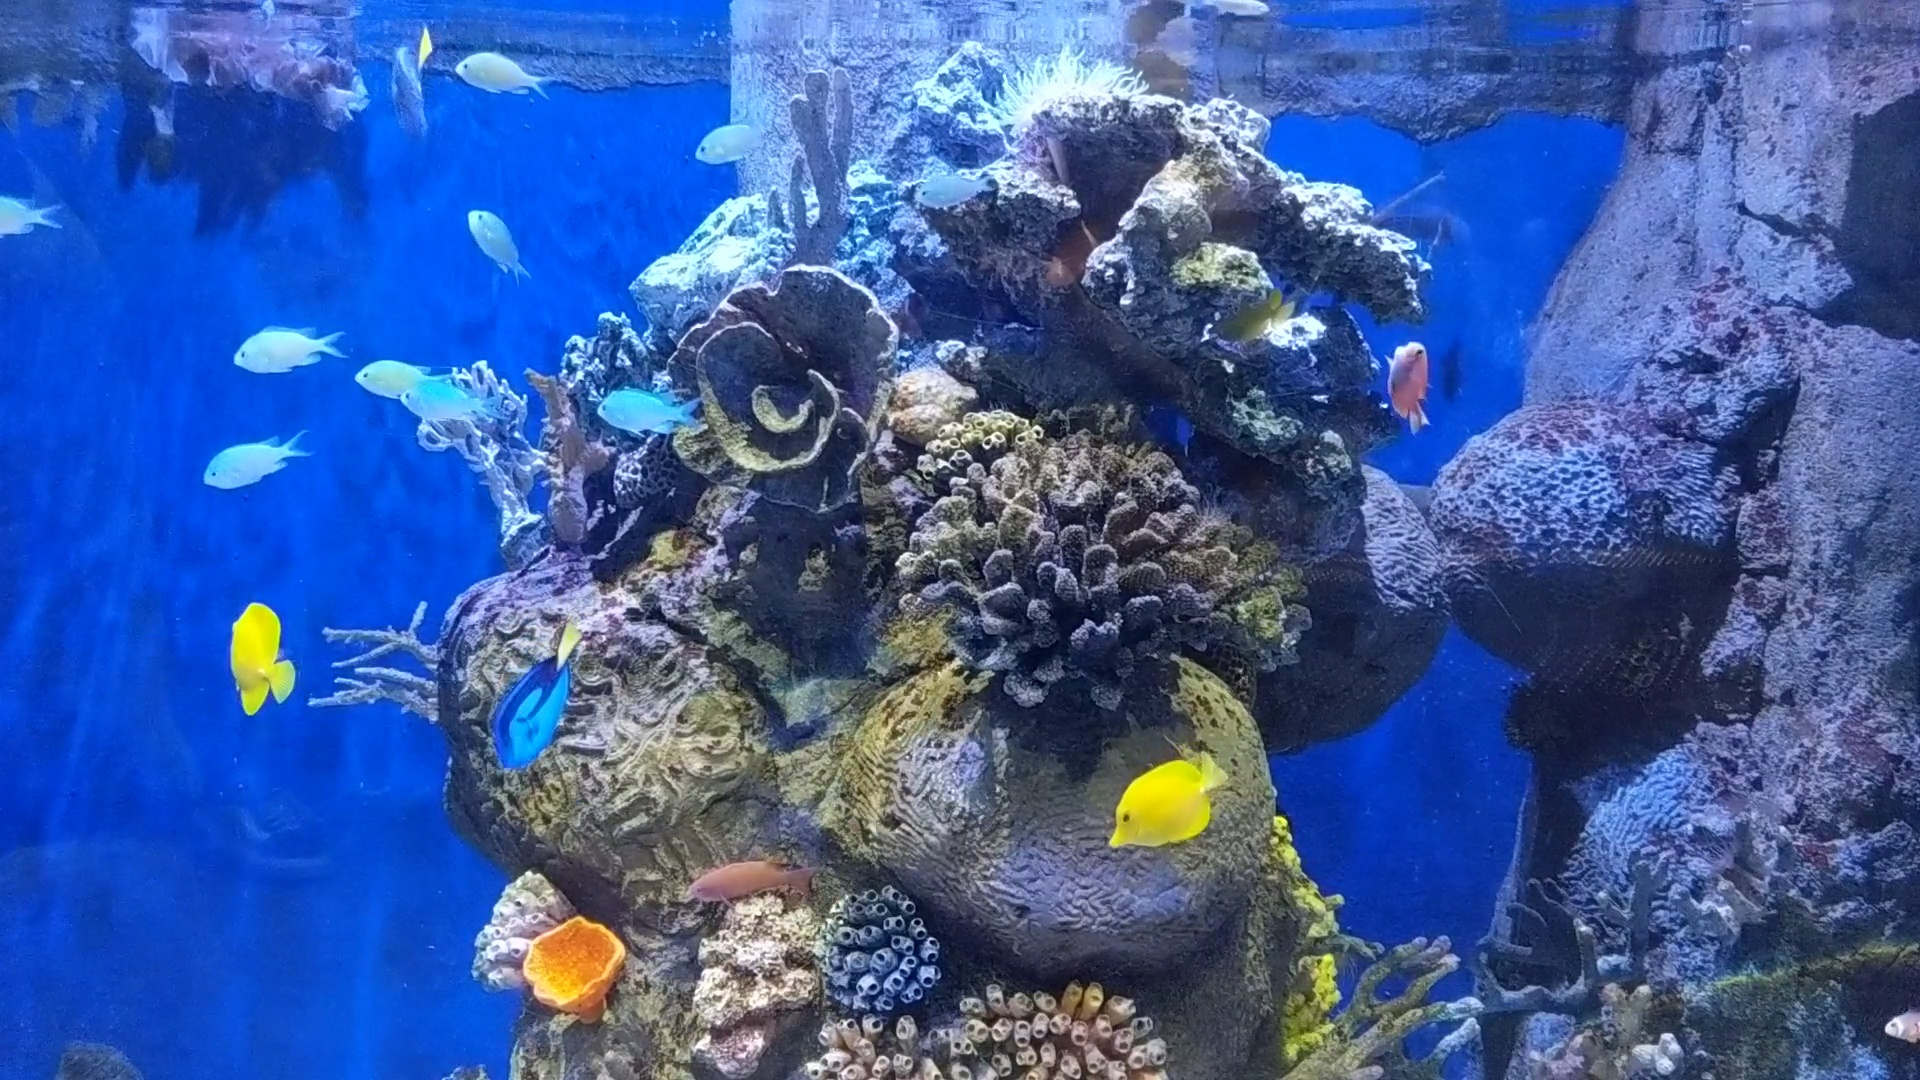blue tang surgeonfish: (476, 616, 588, 767)
damselfish: (224, 309, 342, 388), (444, 195, 538, 286), (224, 309, 330, 388), (190, 425, 301, 496), (406, 376, 534, 436), (448, 25, 545, 103), (352, 338, 440, 407), (698, 109, 789, 175), (607, 380, 691, 440)
pink fish: (1370, 316, 1448, 442)
saddle butterfly fish: (1105, 742, 1221, 857), (224, 600, 305, 723)
